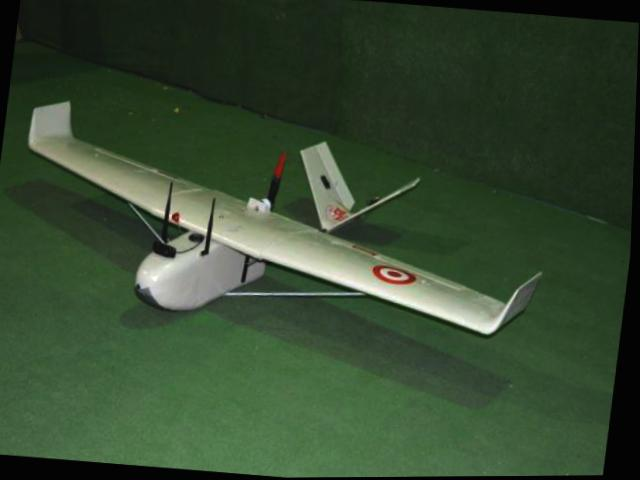iha: (4, 90, 563, 350)
